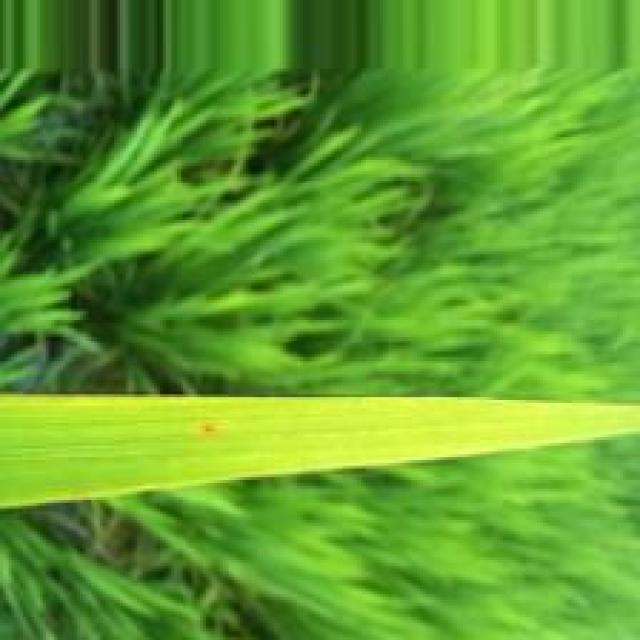Brown_Spot: (197, 421, 230, 439)
